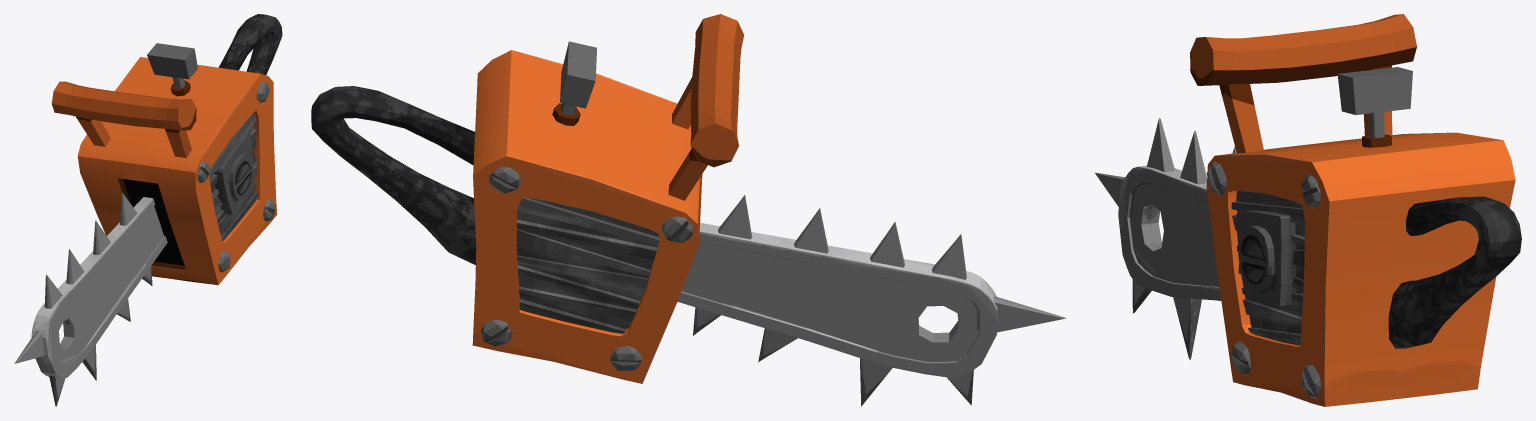
File: MotosierraEAAL.glb
3 renders of one model, left to right at view 1: azimuth 30°, elevation 25°; view 2: azimuth 150°, elevation 25°; view 3: azimuth 270°, elevation 25°, orthographic. The views are drawn at different scales.
Visible parts, largest first — view 1: Cuerpo; view 2: Cuerpo; view 3: Cuerpo.
Part boxes in pixels (bbox=[...]): Cuerpo: bbox=[14, 14, 282, 406]; Cuerpo: bbox=[311, 14, 1066, 406]; Cuerpo: bbox=[1095, 14, 1521, 406].
Bounding box in the file's own units: 3.43 × 2.13 × 2.08.
Materials: 10 (9 with a texture image).
